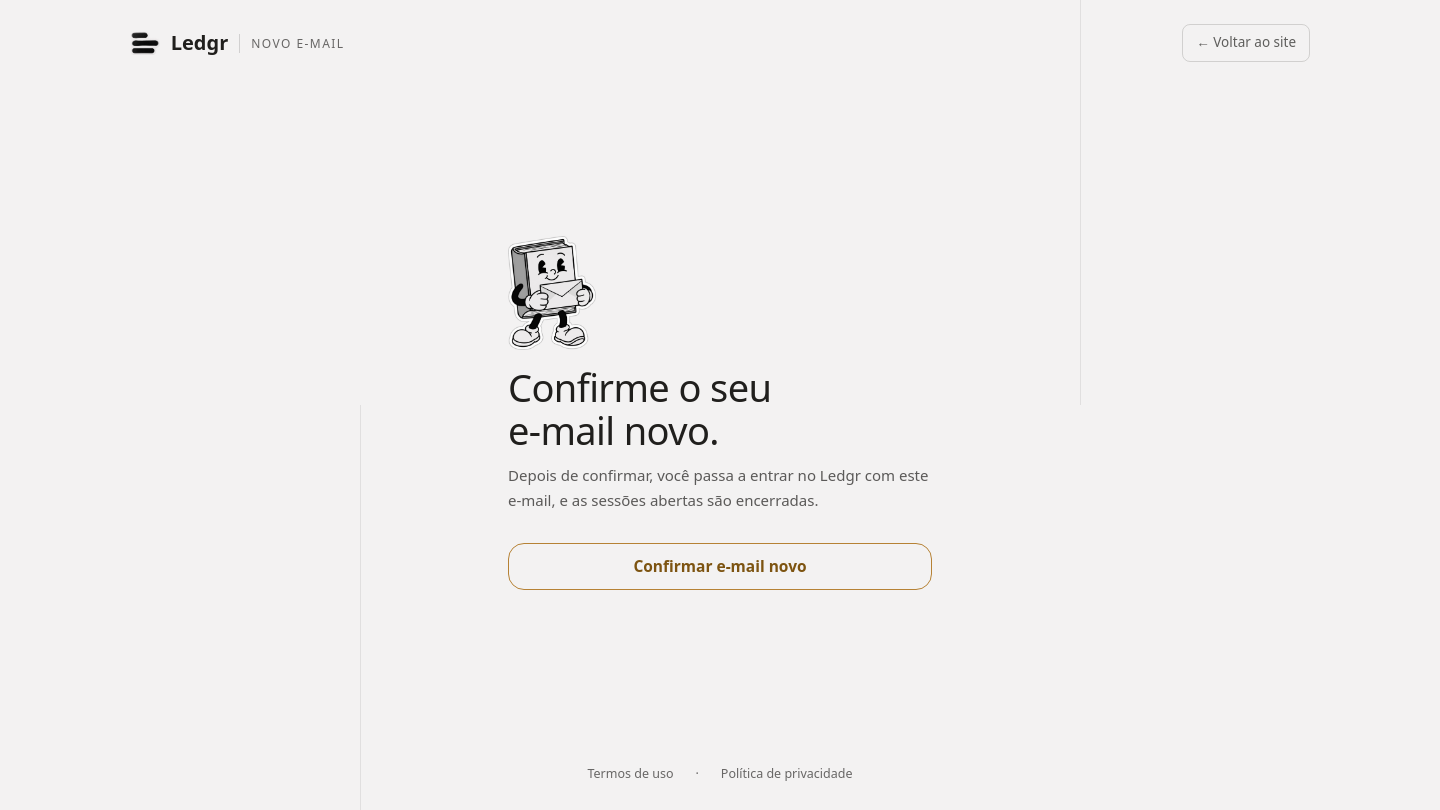
Test: ConfirmarEmailPage › confirma, mostra o e-mail novo e leva ao login
The width and height of the screenshot is (1440, 810).
What coordinates should you click on to do the following:
click the button "Confirmar e-mail novo"
I would click on:
 (720, 566)
Its box is top-left (508, 543), bottom-right (932, 590).
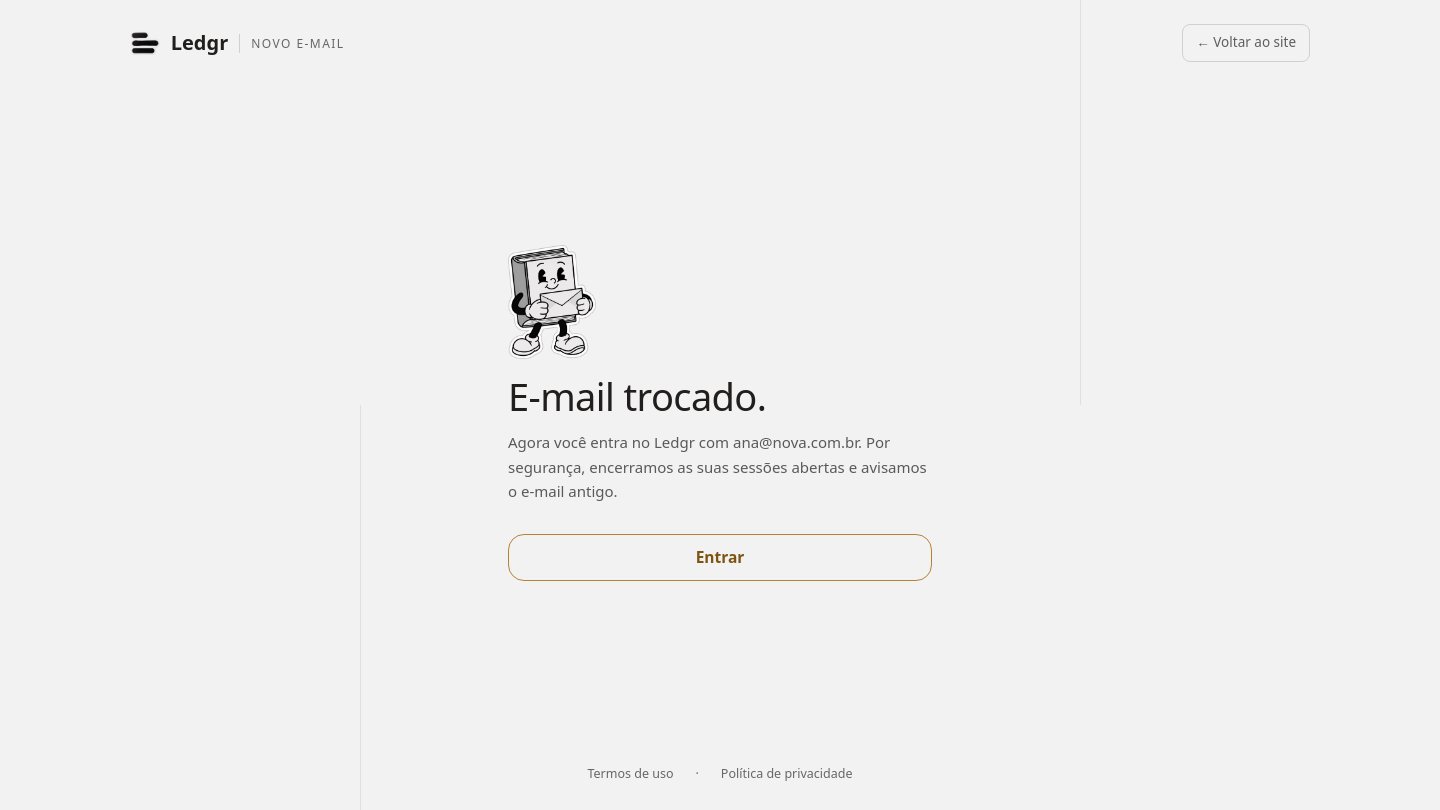
Expected: the heading "E-mail trocado." is shown, top-left (508, 370), bottom-right (766, 422)
Expected: the text "ana@nova.com.br" is shown, top-left (508, 432), bottom-right (927, 501)
